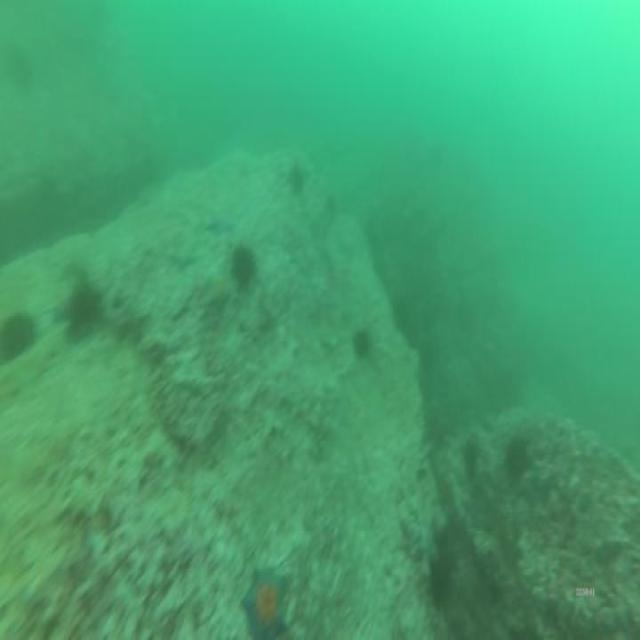echinus: (69, 291, 95, 333), (504, 436, 530, 477), (231, 243, 254, 286), (5, 318, 31, 356), (356, 333, 370, 362)
starfish: (245, 570, 290, 640)
